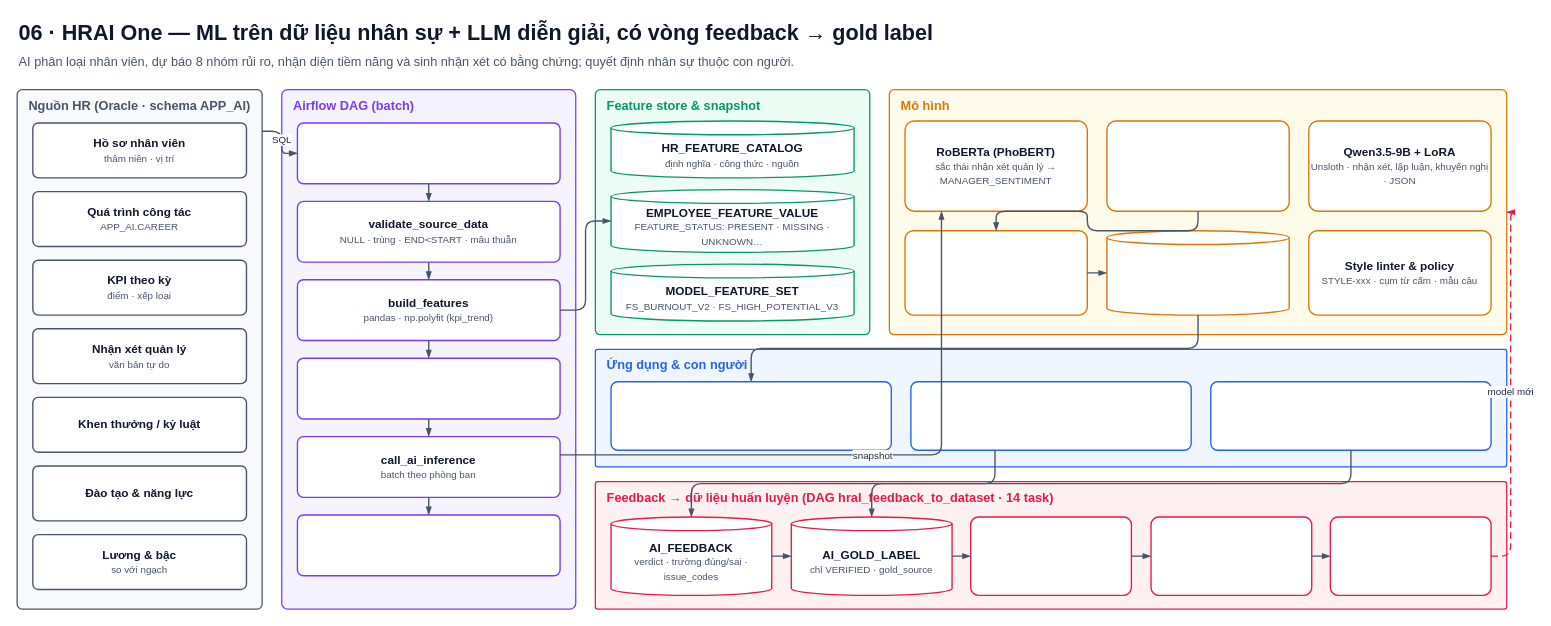
The diagram is 1551 pixels wide and 626 high, and some of its shapes have lost their labels. The centre of each missing label's shape, as x and y in pixels:
"Adjudication queue HR expert / QA lead xử lý bất đồng" goes at (x=1350, y=416).
"AI_PREDICTION model / prompt / feature version" goes at (x=1197, y=272).
"create_input_snapshot bất biến · snapshot_id" goes at (x=428, y=388).
"Dataset version HRAI_GOLD_Vn · Parquet/JSONL · sha256" goes at (x=1051, y=556).
"extract_employee_data SQL · oracledb" goes at (x=428, y=153).
"HRAI One UI quản lý · HR · cảnh báo & khuyến nghị" goes at (x=751, y=416).
"QA Review UI PASS / PARTIAL / FAIL + sửa từng trường + issue code" goes at (x=1050, y=416).
"Quality gate macro-F1 · recall · FP · shadow → canary" goes at (x=1410, y=556).
"save_prediction → publish_to_ui không ghi đè bảng nhân sự" goes at (x=428, y=545).
"Train candidate XGBoost · SFT/DPO (TRL, PEFT)" goes at (x=1231, y=556).
"Validator schema · enum · evidence ∈ snapshot · class ↔ reasoning" goes at (x=996, y=272).
"XGBoost xếp loại + 8 nhóm rủi ro · score đã calibration" goes at (x=1197, y=165).
